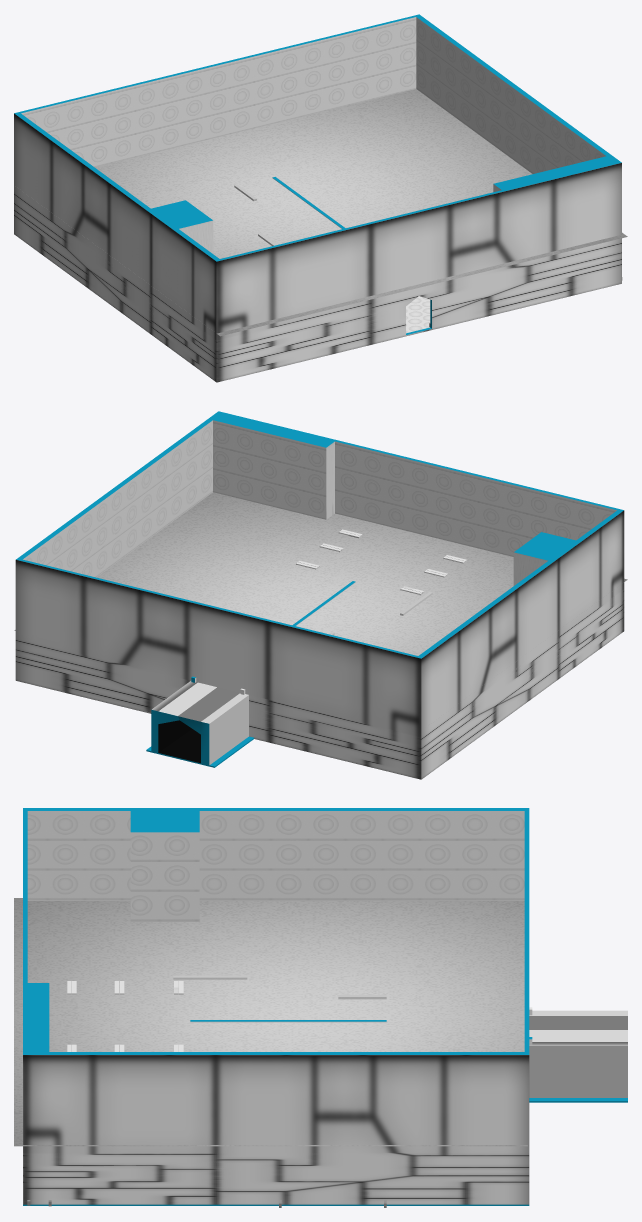
File: SM_Level_1.1.1.fbx
3 views of the same model, one above another, from view 1: azimuth 30°, elevation 25°; view 2: azimuth 150°, elevation 25°; view 3: azimuth 270°, elevation 25° (orthographic). The views are drawn at different scales.
Visible parts, largest first — view 1: polySurface77, pPlane1; view 2: polySurface77, pPlane1; view 3: polySurface77, pPlane1, polySurface129.
Part boxes in pixels (<box>): polySurface77: <box>14,14,621,382</box>; pPlane1: <box>95,89,627,336</box>; polySurface77: <box>15,411,624,779</box>; pPlane1: <box>14,492,627,655</box>; polySurface77: <box>23,808,627,1205</box>; pPlane1: <box>14,898,527,1146</box>; polySurface129: <box>190,1020,386,1022</box>.
Bounding box in the file's own units: 130 × 36.93 × 134.
